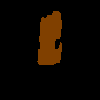vestito: (37, 11, 62, 64)
